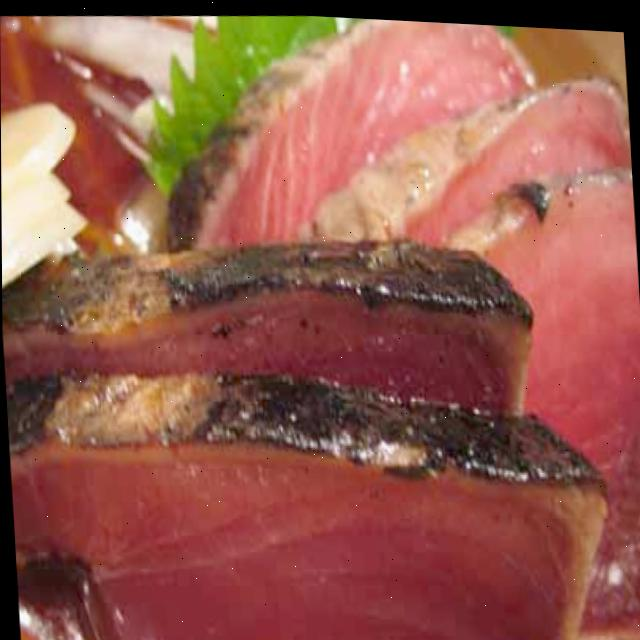熟制海鲜: (1, 194, 624, 640)
